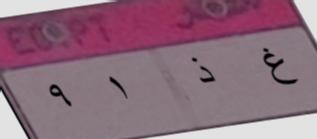1: (105, 71, 134, 110)
9: (43, 78, 75, 121)
ghayn: (260, 41, 299, 92)
zaal: (186, 52, 219, 92)
